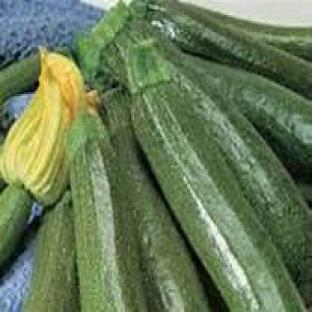Zucchini: (126, 42, 304, 311), (171, 55, 311, 302), (104, 93, 209, 311), (68, 111, 147, 311), (187, 59, 311, 178), (181, 2, 311, 60), (23, 192, 78, 311), (0, 185, 31, 268), (0, 55, 40, 105), (297, 181, 311, 204)
